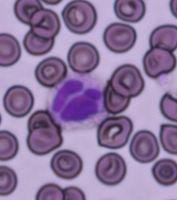N: (46, 71, 106, 130)
